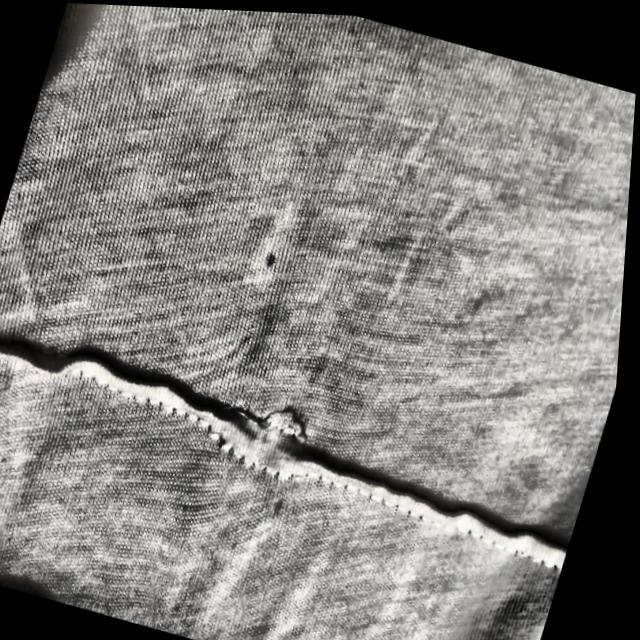Stitch: (157, 358, 372, 499)
